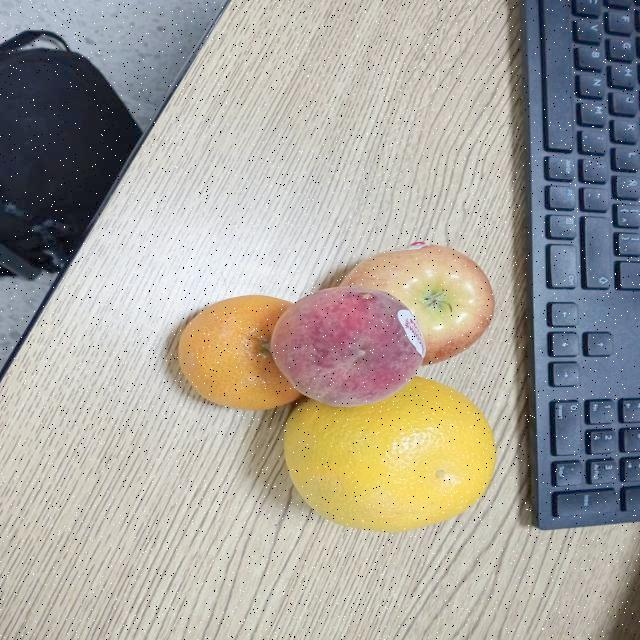Apel Gala: (316, 233, 498, 375)
Jeruk: (274, 368, 501, 541)
Jeruk Mandarin: (170, 292, 326, 415)
Persik: (263, 280, 432, 413)
